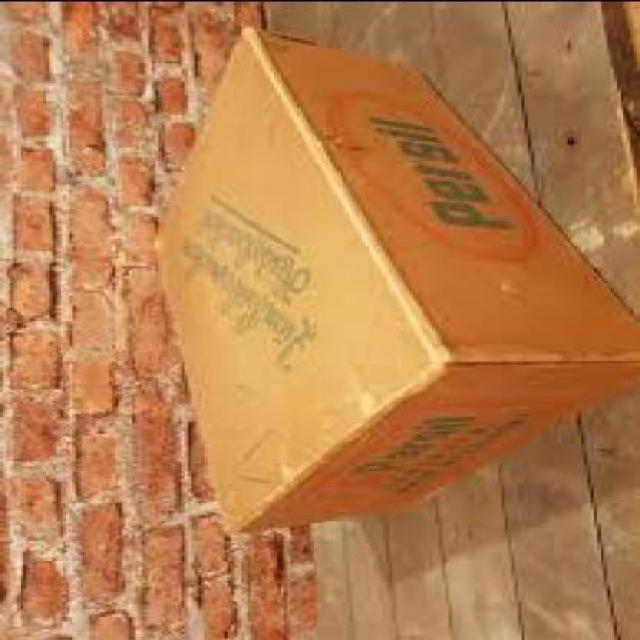box: (152, 29, 637, 534)
